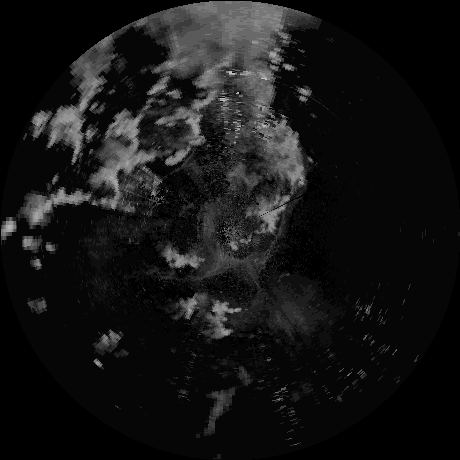frontgust: (268, 204, 288, 249), (153, 270, 208, 282), (175, 149, 197, 173)
